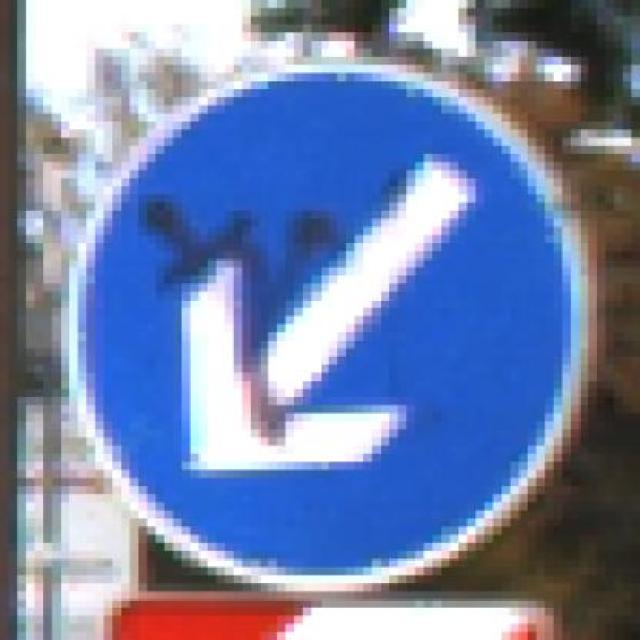Keep-Left: (51, 40, 614, 600)
